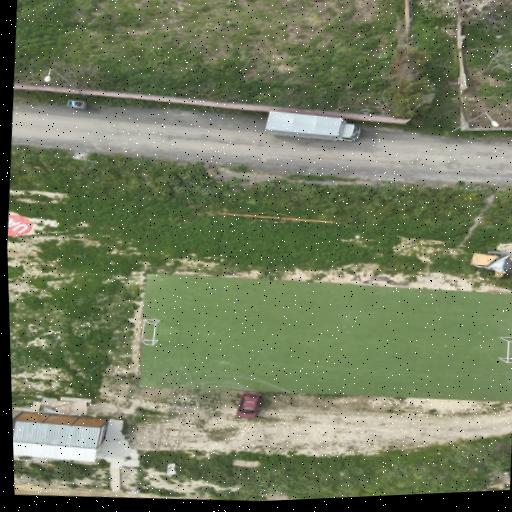car: (237, 391, 262, 418), (67, 99, 86, 108)
truck: (266, 110, 359, 140), (471, 250, 511, 276)
uai: (8, 213, 33, 236)
